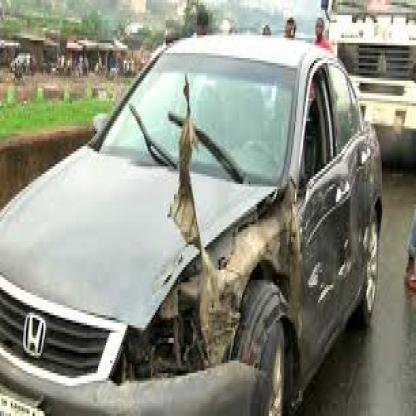accident: (0, 33, 315, 416)
